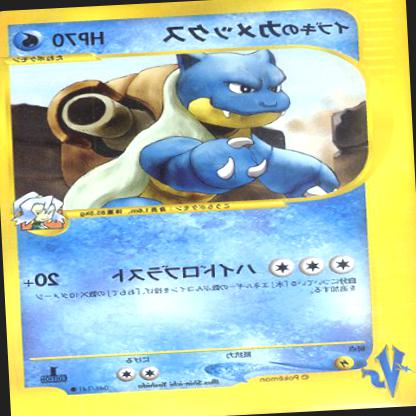Blastoise: (55, 48, 322, 212)
